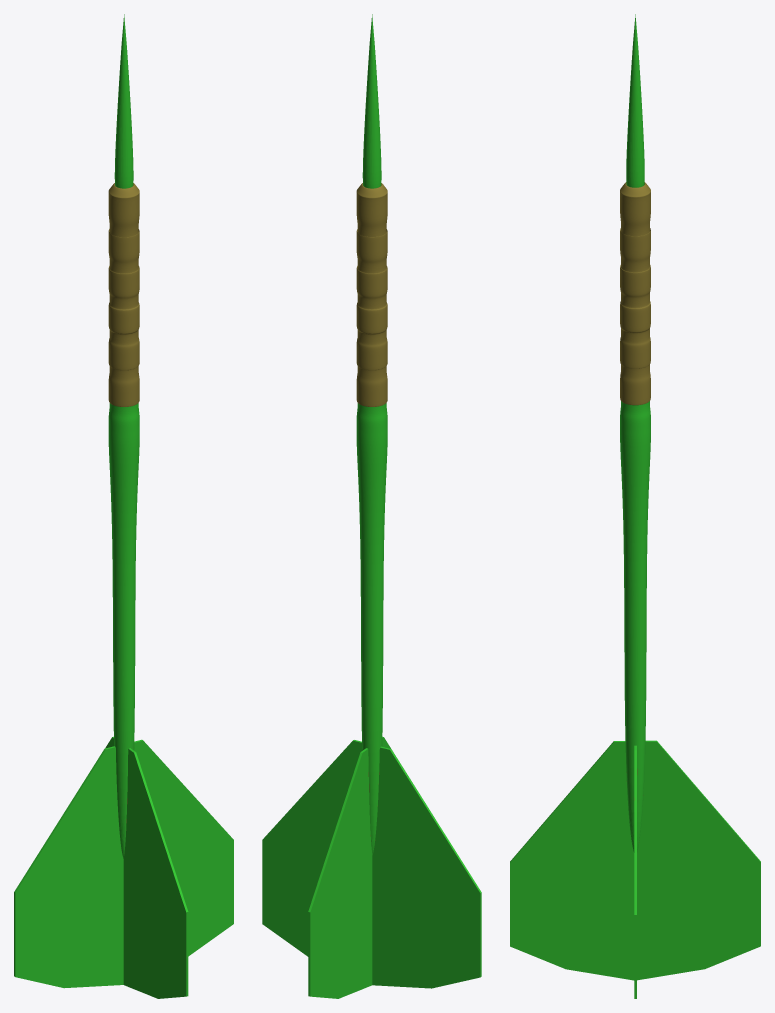
File: Dart_grün.fbx
3 views of the same model, side by side, from view 1: azimuth 30°, elevation 25°; view 2: azimuth 150°, elevation 25°; view 3: azimuth 270°, elevation 25° (orthographic).
Parts seen in each view (by area): view 1: body; view 2: body; view 3: body.
Part boxes in pixels (left/top/right/bottom): body: left=14, top=14, right=233, bottom=998; body: left=262, top=14, right=481, bottom=998; body: left=510, top=14, right=760, bottom=998.
Bounding box in the file's own units: 28.45 × 121 × 28.45.
